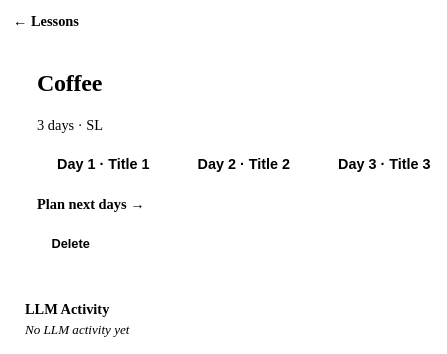
Scenario: Delete curriculum › arms on the first click without deleting
Step 1. Click the button with aria-label "Delete Coffee" → (71, 243), box 37,229 -> 104,257
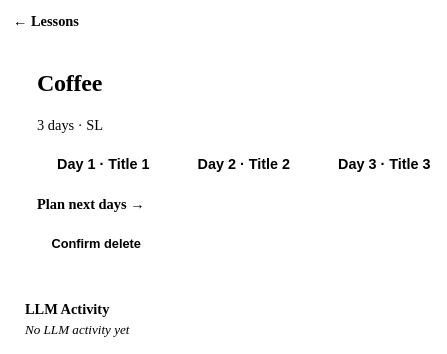
Now the button with aria-label "Confirm delete Coffee" reads "Confirm delete", box 37,229 -> 155,257
